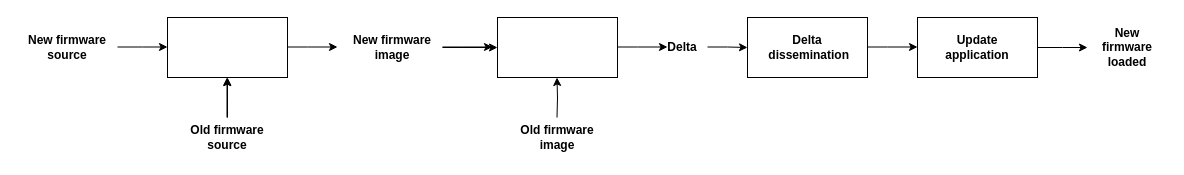
Some shapes in this 1184 by 175 pixel diagram are drawn without their labels. The box of each missing label's shape, as (x1, y1, x2, y2) in pixels:
Differencing algorithm: (496, 16, 618, 78)
Improving firmware similarity: (166, 16, 288, 78)
